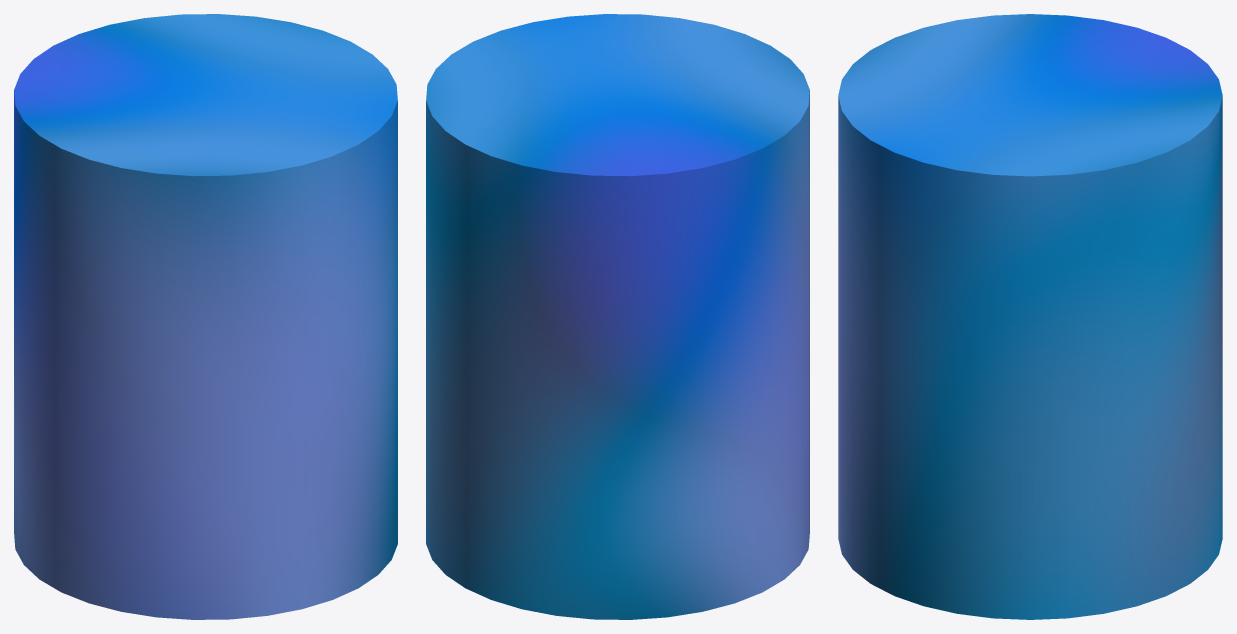
The model's file is ЦИЛИНДР.fbx.
3 renders of one model, left to right at view 1: azimuth 30°, elevation 25°; view 2: azimuth 150°, elevation 25°; view 3: azimuth 270°, elevation 25°, orthographic.
Visible parts, largest first — view 1: Cone.001; view 2: Cone.001; view 3: Cone.001.
Part boxes in pixels (bbox=[...]): Cone.001: bbox=[14, 14, 397, 619]; Cone.001: bbox=[426, 14, 809, 619]; Cone.001: bbox=[838, 14, 1222, 619].
Size of the model in its own units: 1.67 by 2.12 by 1.67.
Materials: 1 (1 with a texture image).
